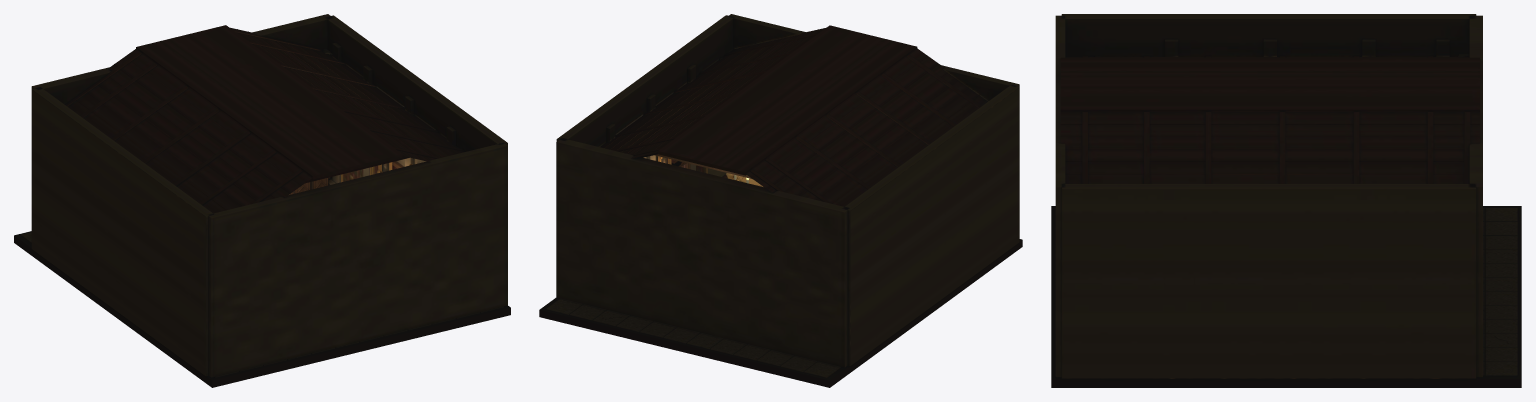
3 renders of one model, left to right at view 1: azimuth 30°, elevation 25°; view 2: azimuth 150°, elevation 25°; view 3: azimuth 270°, elevation 25°, orthographic. The views are drawn at different scales.
Visible parts, largest first — view 1: gryffindor_architecture, gryffindor_floor; view 2: gryffindor_architecture, gryffindor_floor; view 3: gryffindor_architecture, gryffindor_floor.
Part boxes in pixels (x1=…): gryffindor_architecture: x1=31, y1=14, x2=507, y2=377; gryffindor_floor: x1=14, y1=231, x2=510, y2=387; gryffindor_architecture: x1=556, y1=14, x2=1019, y2=367; gryffindor_floor: x1=539, y1=176, x2=1022, y2=387; gryffindor_architecture: x1=1055, y1=14, x2=1482, y2=378; gryffindor_floor: x1=1051, y1=206, x2=1521, y2=387.
Size of the model in its own units: 16.8 by 9.74 by 19.08.
8 materials, 4 textured.
